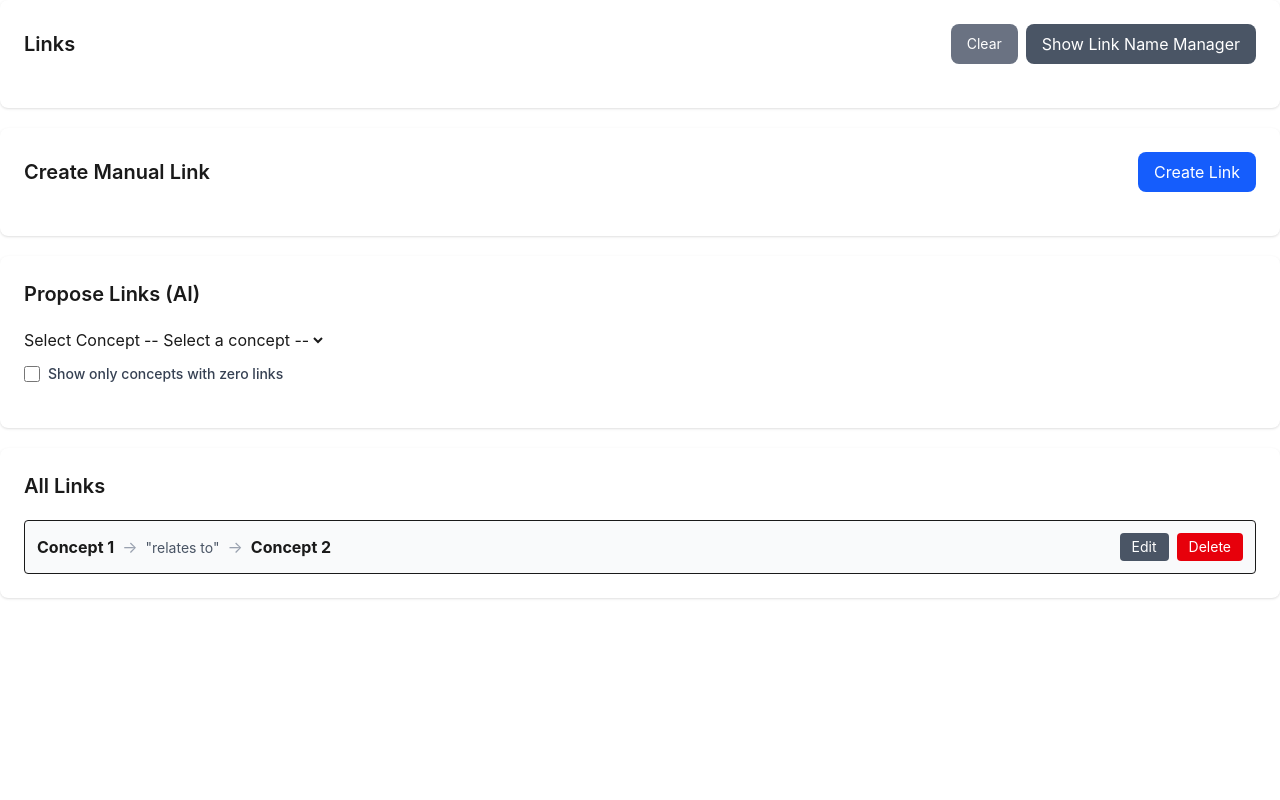
it: LinksTab › should toggle link name manager visibility
The image size is (1280, 800).
// Click to show
Click the button "Show Link Name Manager".
click(1141, 44)  # box [1026,24,1256,64]
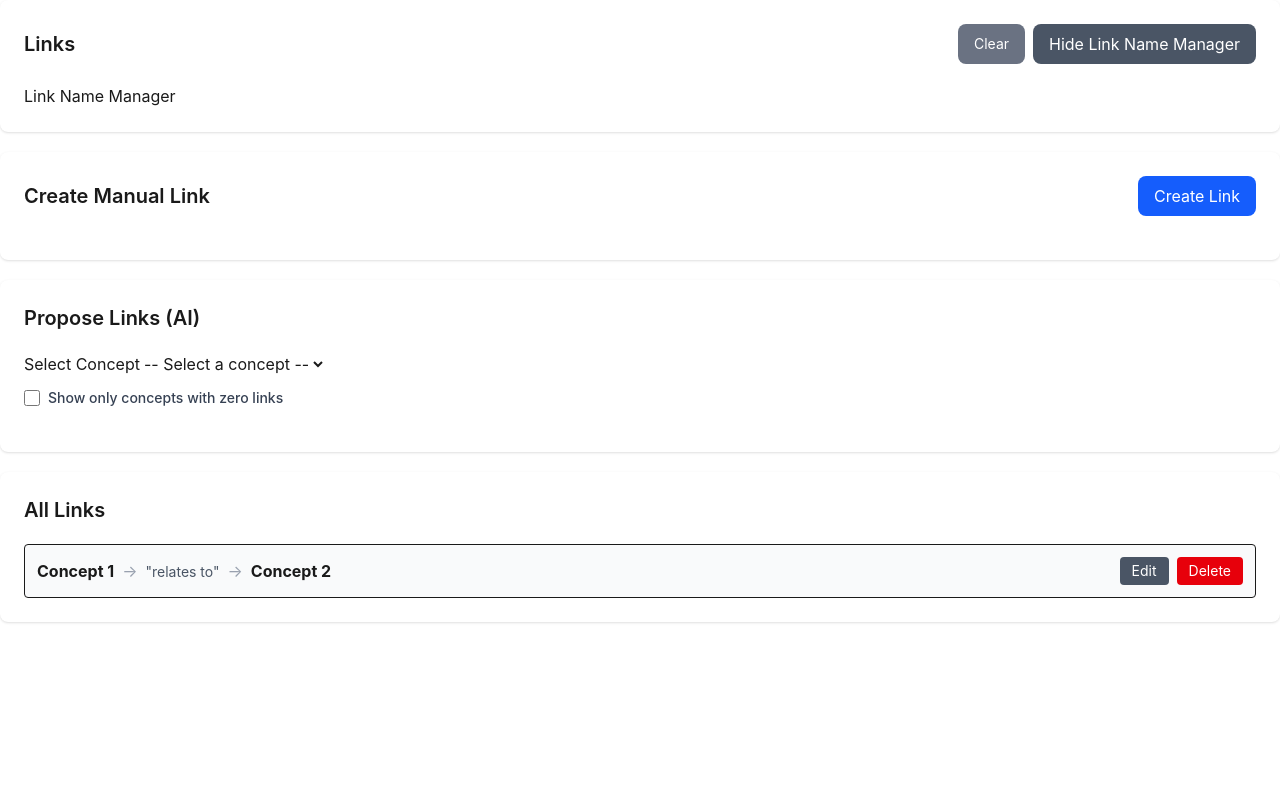
Now the text "Link Name Manager" is shown, box [24,86,176,106]
